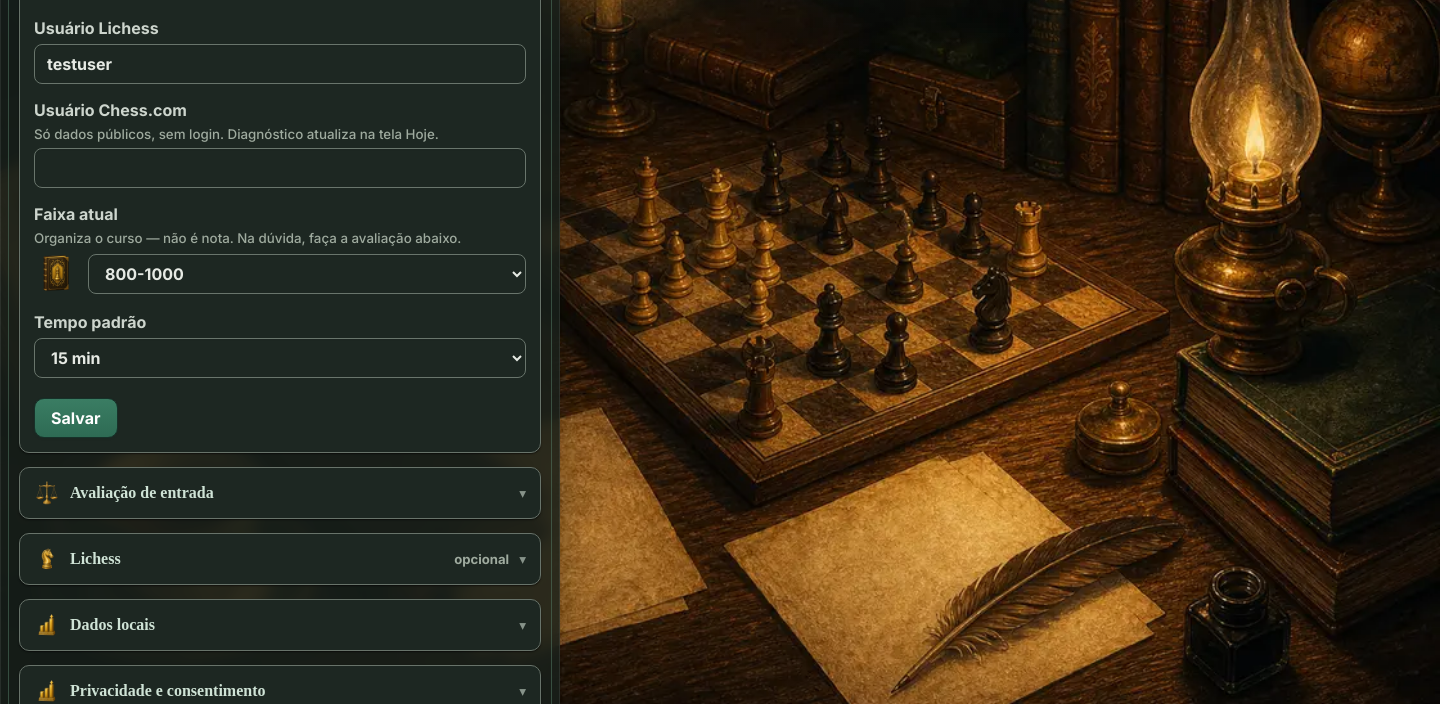
Config — autoBackupStatus › shows "Ativar backup automático" when autoBackupStatus is "disabled"
Click the heading "Dados locais" at (94, 625), box [34,612,155,638]
(page scrolled)
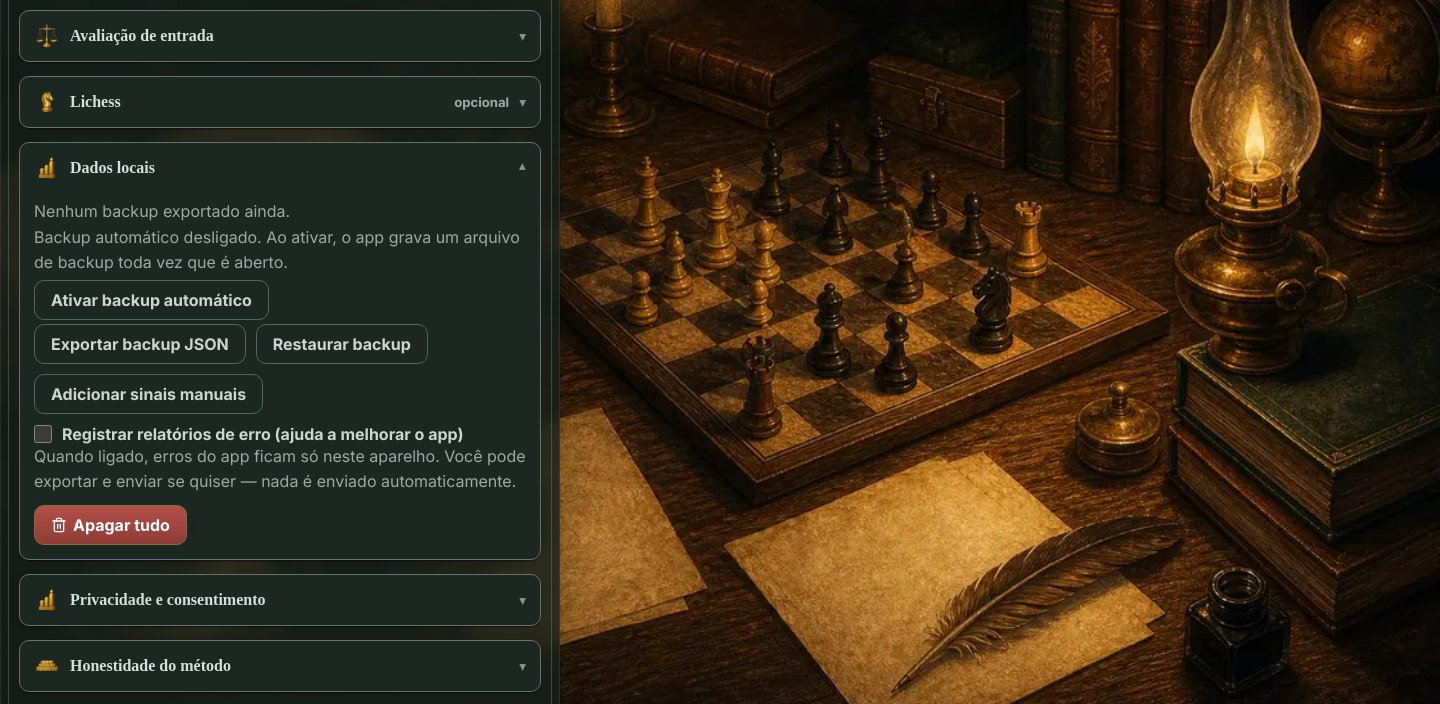
Expected: the button "Ativar backup automático" is shown, [34,280,269,320]
